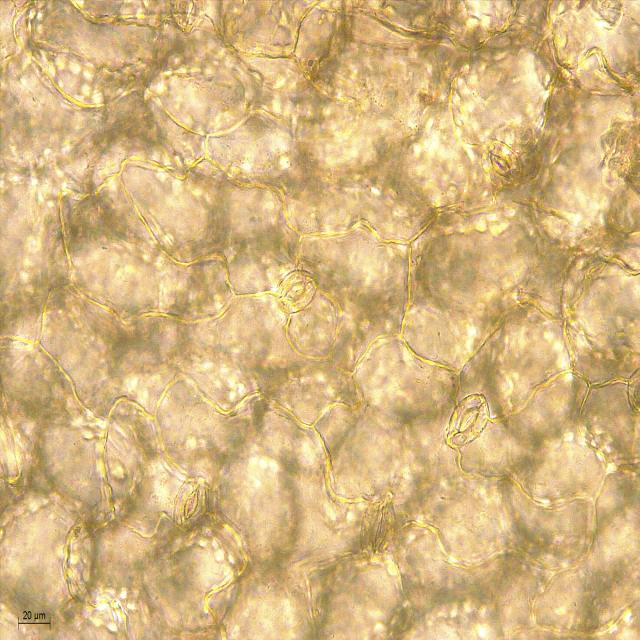Stomata: (445, 391, 490, 449), (360, 497, 397, 563), (478, 139, 524, 191), (275, 269, 318, 314), (173, 478, 208, 530)
